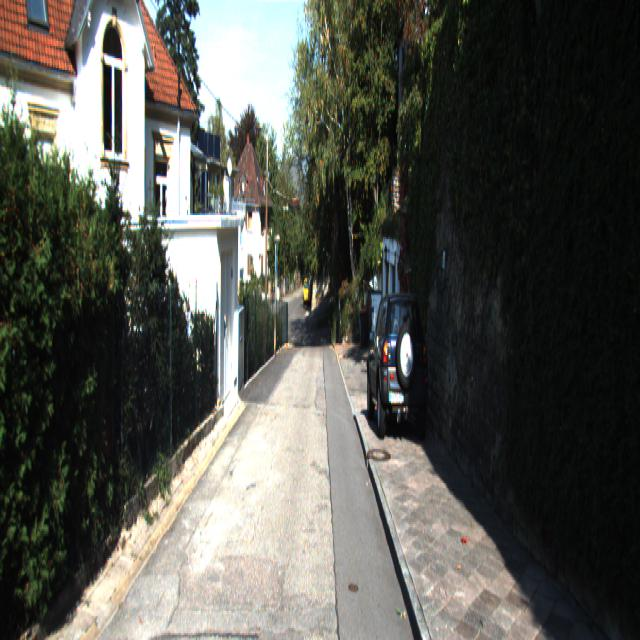Car: (366, 292, 430, 449)
